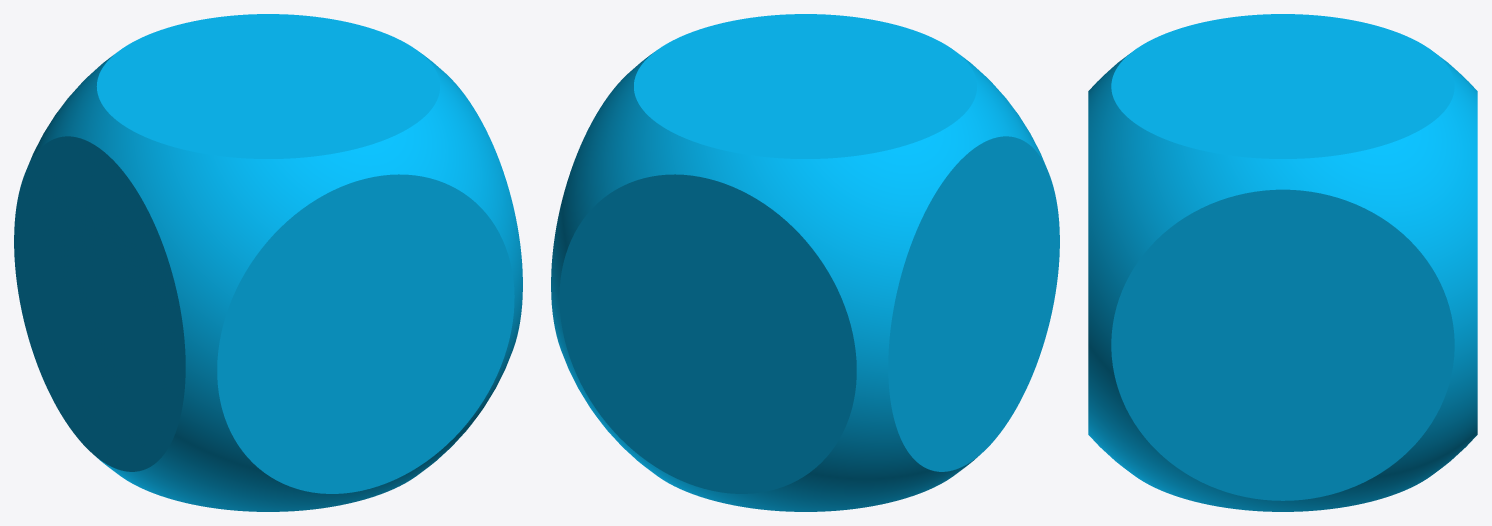
The model's file is intersect.gltf.
The picture shows the model from 3 angles, left to right: view 1: azimuth 30°, elevation 25°; view 2: azimuth 150°, elevation 25°; view 3: azimuth 270°, elevation 25°; orthographic projection.
Parts seen in each view (by area): view 1: Gövde; view 2: Gövde; view 3: Gövde.
Part boxes in pixels (x1,y1,x2,y2): Gövde: (14,14,522,511); Gövde: (551,14,1059,511); Gövde: (1088,14,1477,511).
Bounding box in the file's own units: 0.03 × 0.03 × 0.03.
